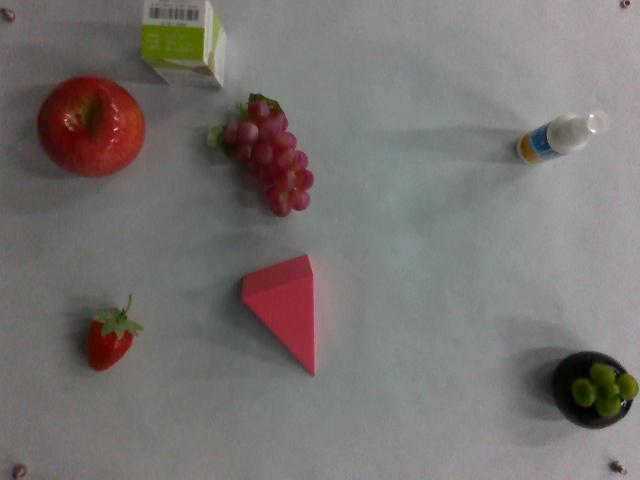apple: (37, 77, 146, 181)
carton: (139, 1, 233, 94)
detergent: (512, 107, 610, 175)
grape: (213, 97, 315, 219)
mangosteen: (550, 347, 639, 434)
pyramid: (236, 256, 322, 380)
strawberry: (80, 292, 143, 376)
